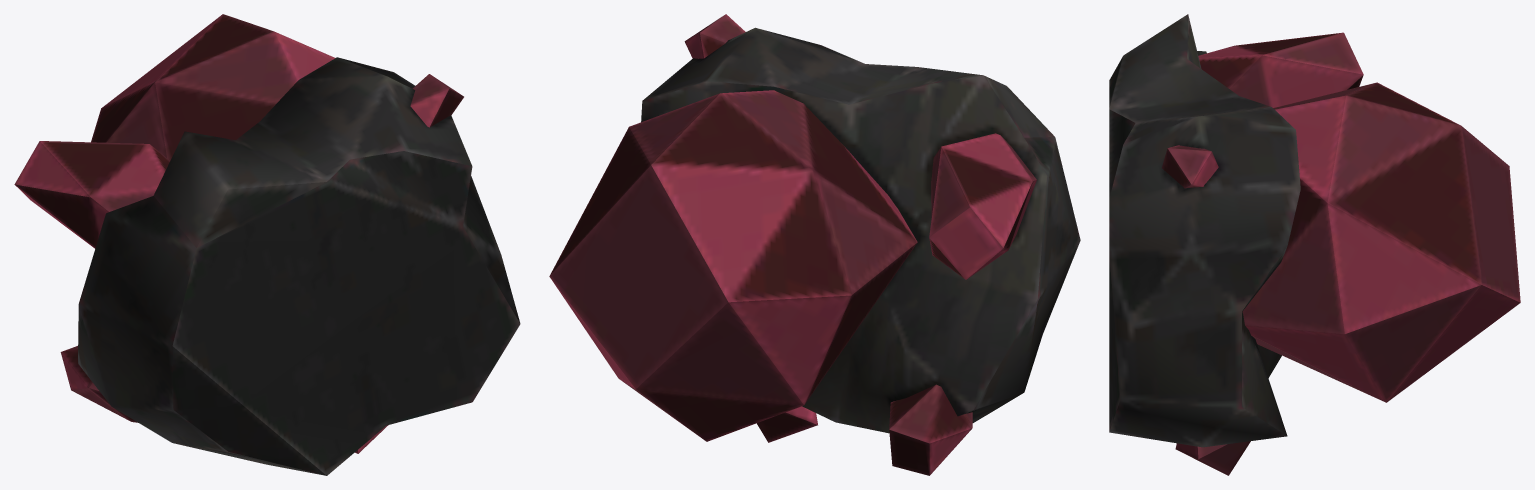
The model's file is rub.glb.
3 renders of one model, left to right at view 1: azimuth 30°, elevation 25°; view 2: azimuth 150°, elevation 25°; view 3: azimuth 270°, elevation 25°, orthographic. The views are drawn at different scales.
Visible parts, largest first — view 1: Root__Mt_Body, Root__Mt_Ore; view 2: Root__Mt_Ore, Root__Mt_Body; view 3: Root__Mt_Ore, Root__Mt_Body.
Part boxes in pixels (x1,y1,x2,y2): Root__Mt_Body: (78, 57, 520, 475); Root__Mt_Ore: (14, 14, 463, 453); Root__Mt_Ore: (549, 14, 1036, 475); Root__Mt_Body: (641, 27, 1080, 433); Root__Mt_Ore: (1162, 32, 1520, 475); Root__Mt_Body: (1109, 14, 1300, 447).
Size of the model in its own units: 0.5294 by 0.4789 by 0.4779.
Materials: 1 (1 with a texture image).
